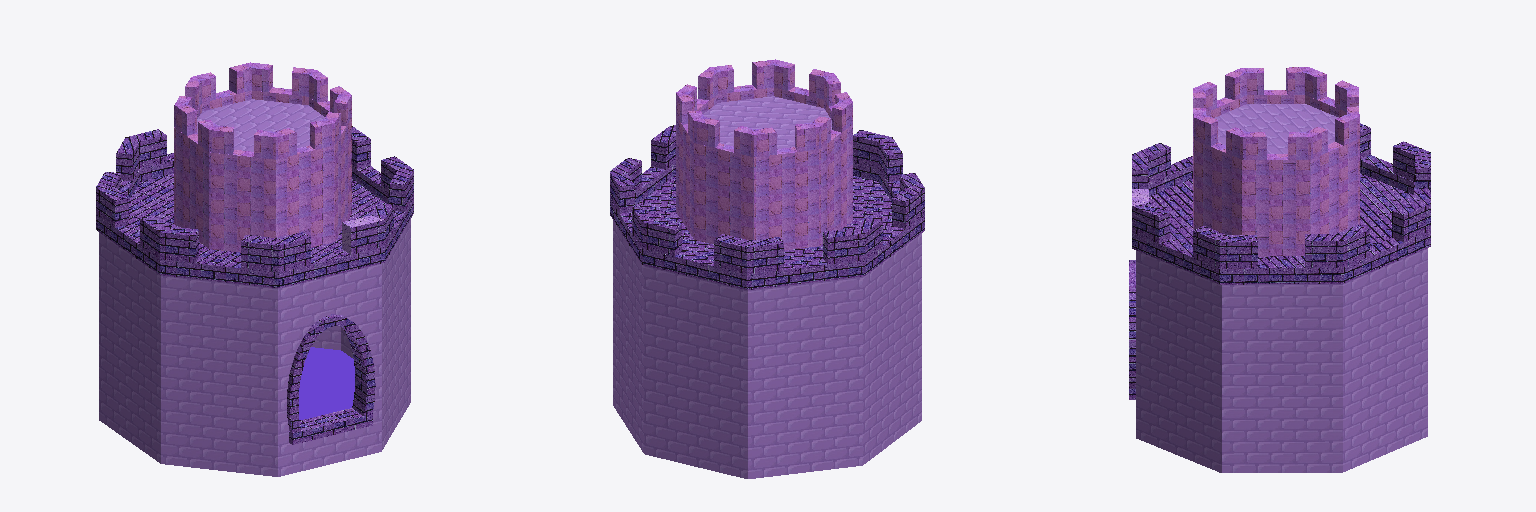
3 views of the same model, side by side, from view 1: azimuth 30°, elevation 25°; view 2: azimuth 150°, elevation 25°; view 3: azimuth 270°, elevation 25° (orthographic).
Visible parts, largest first — view 1: Base; view 2: Base; view 3: Base.
Part boxes in pixels (bbox=[...]): Base: bbox=[96, 62, 413, 476]; Base: bbox=[610, 59, 924, 478]; Base: bbox=[1129, 67, 1430, 472].
Bounding box in the file's own units: 12 × 13.95 × 12.24.
5 materials, 4 textured.